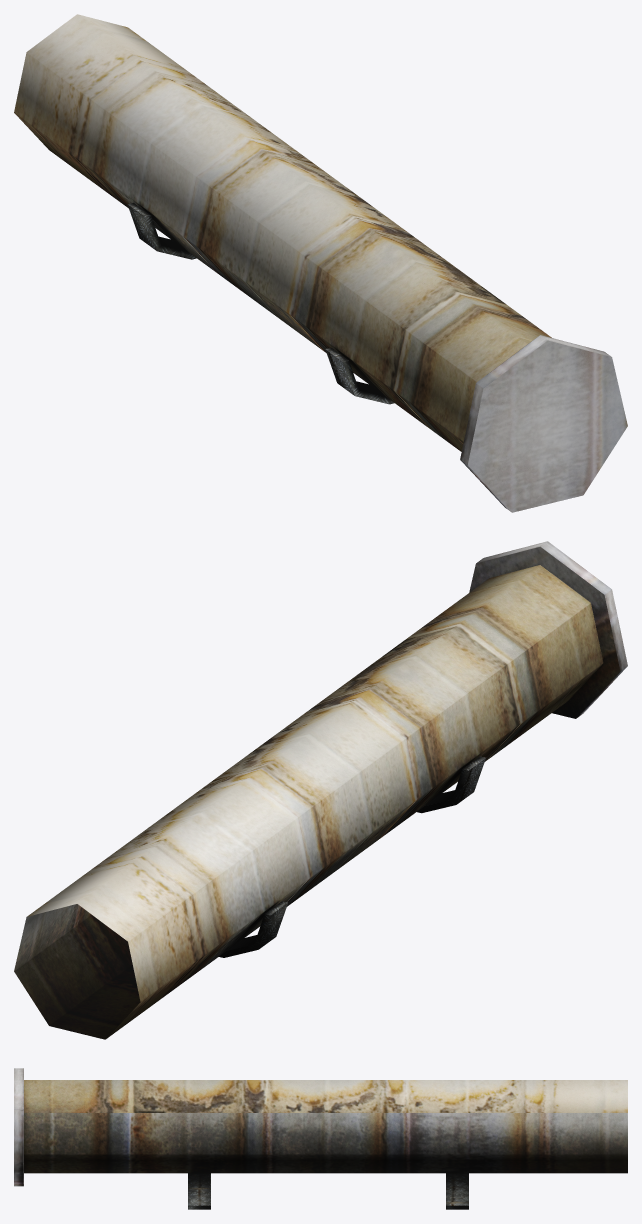
The model's file is Pipe01.fbx.
3 views of the same model, one above another, from view 1: azimuth 30°, elevation 25°; view 2: azimuth 150°, elevation 25°; view 3: azimuth 270°, elevation 25° (orthographic). The views are drawn at different scales.
Parts seen in each view (by area): view 1: Circle.017; view 2: Circle.017; view 3: Circle.017.
Boxes of the visible parts, left/top/right/bottom form: Circle.017: left=14, top=14, right=627, bottom=512; Circle.017: left=14, top=541, right=627, bottom=1039; Circle.017: left=14, top=1068, right=627, bottom=1209.
Size of the model in its own units: 51.8 by 39.35 by 205.
